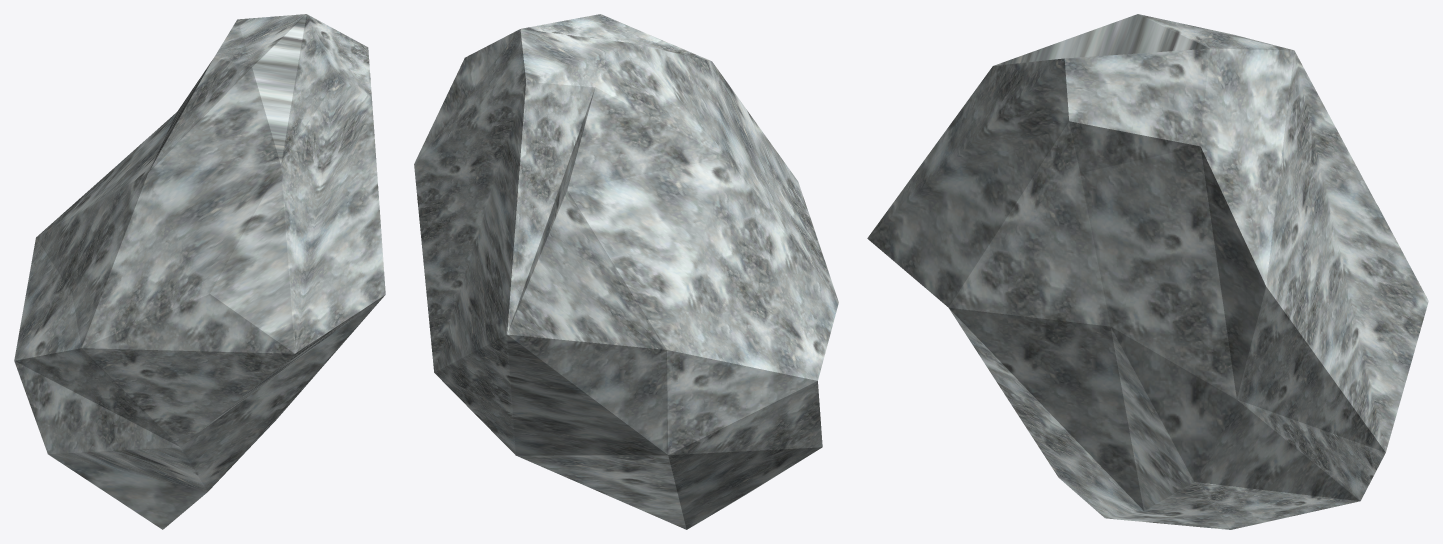
File: C1SNLARGEROCKB_SC.obj
The picture shows the model from 3 angles, left to right: view 1: azimuth 30°, elevation 25°; view 2: azimuth 150°, elevation 25°; view 3: azimuth 270°, elevation 25°; orthographic projection. The views are drawn at different scales.
Visible parts, largest first — view 1: Node 0; view 2: Node 0; view 3: Node 0.
Boxes of the visible parts, x1=… form: Node 0: x1=14, y1=14, x2=385, y2=529; Node 0: x1=414, y1=14, x2=838, y2=529; Node 0: x1=867, y1=14, x2=1428, y2=529.
Bounding box in the file's own units: 11.44 × 12.95 × 11.12.
